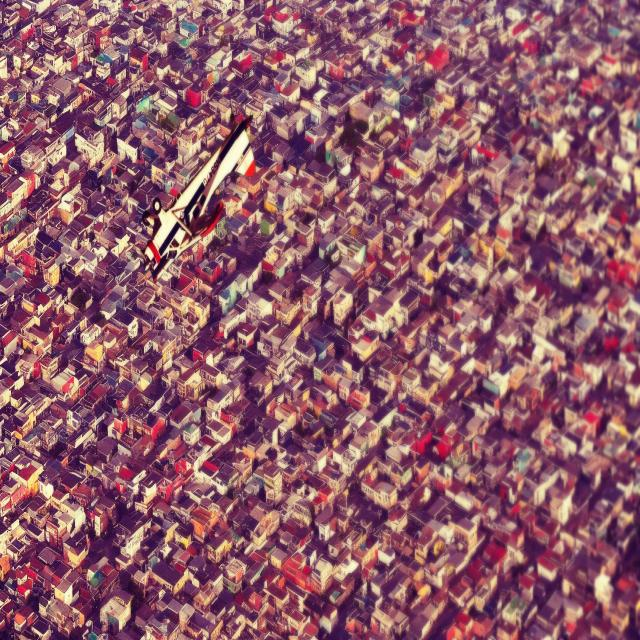airplane: (137, 111, 255, 284)
